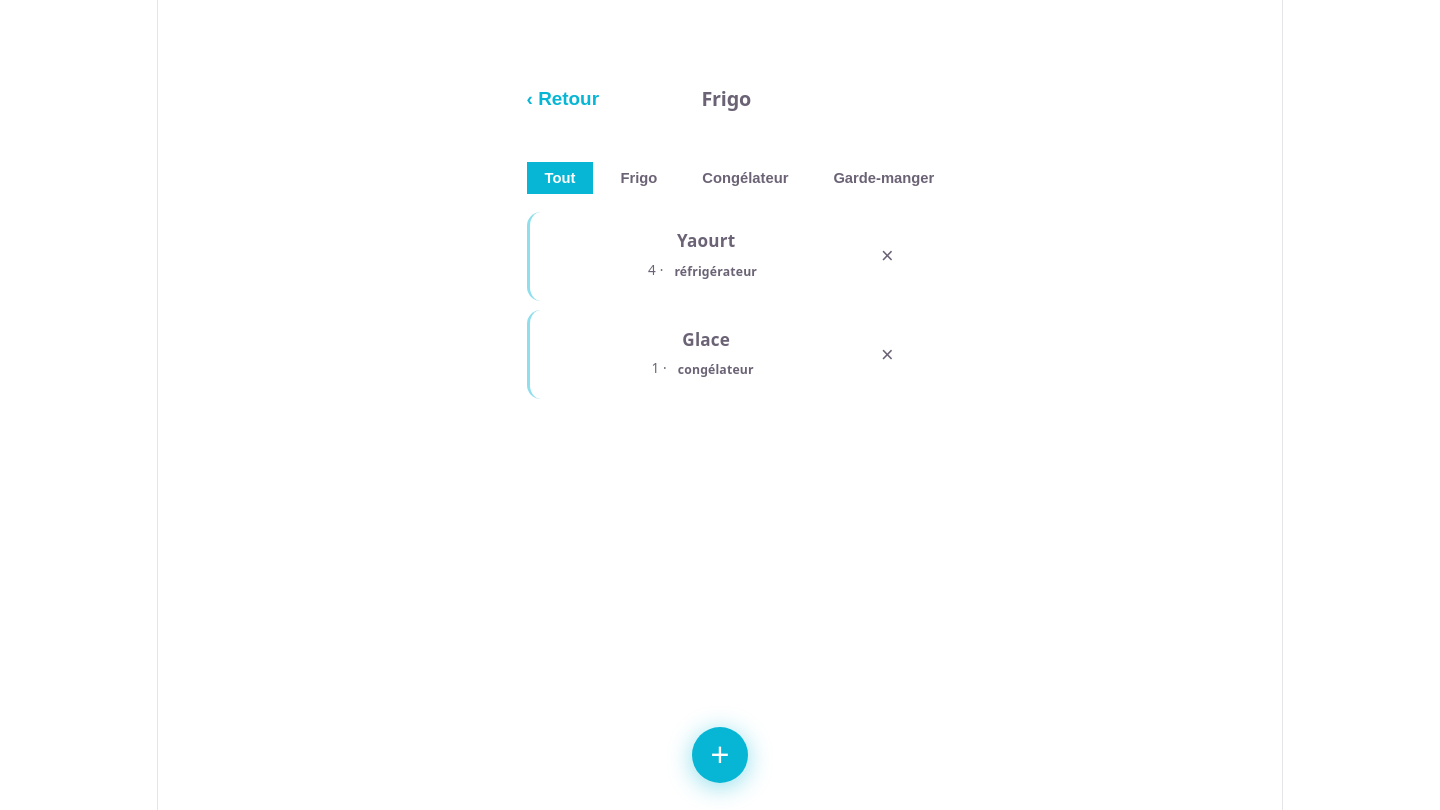
Scenario: FrigoPage › filters to frigo products when Frigo pill is clicked
The image size is (1440, 810).
Click the button "Frigo" at (639, 178), box [602,162,675,194]
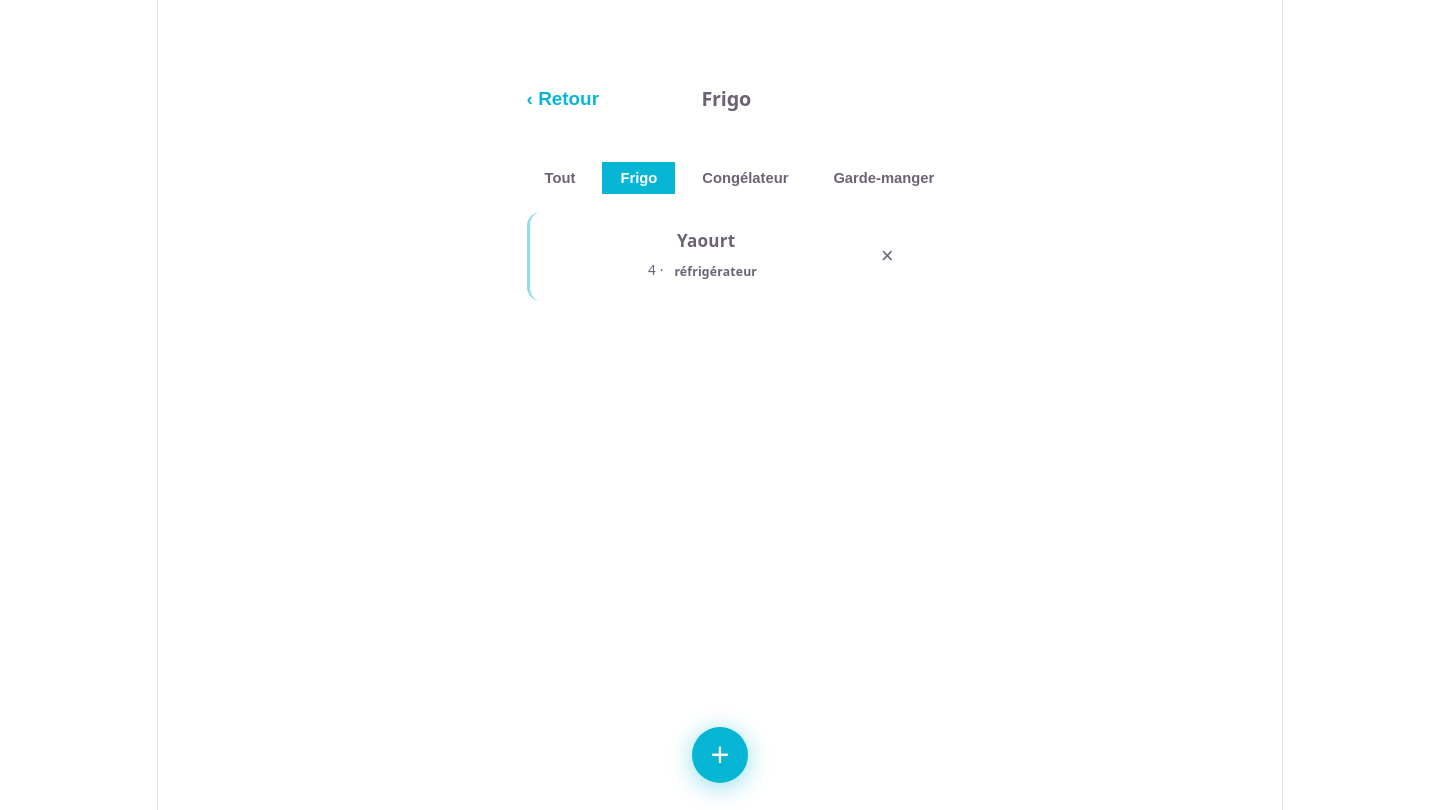
Expected: the text "Yaourt" is shown, [677,230,735,252]
Expected: the text "Glace" is gone
